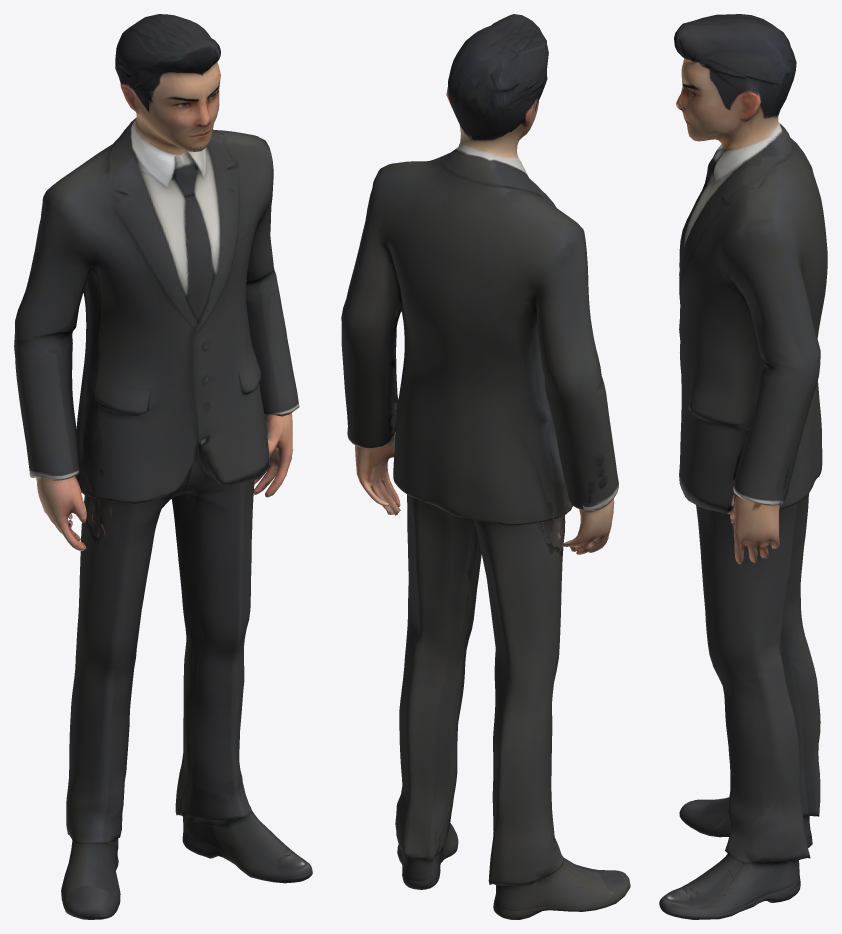
File: лоу_поли_пер_0324172049_texture.fbx
3 views of the same model, side by side, from view 1: azimuth 30°, elevation 25°; view 2: azimuth 150°, elevation 25°; view 3: azimuth 270°, elevation 25° (orthographic).
Visible parts, largest first — view 1: input; view 2: input; view 3: input.
Boxes of the visible parts, x1,y1,x2,y2 form: input: (14, 14, 312, 919); input: (341, 14, 630, 919); input: (659, 14, 827, 919).
Size of the model in its own units: 64.18 by 199 by 35.8.
Materials: 1 (1 with a texture image).
